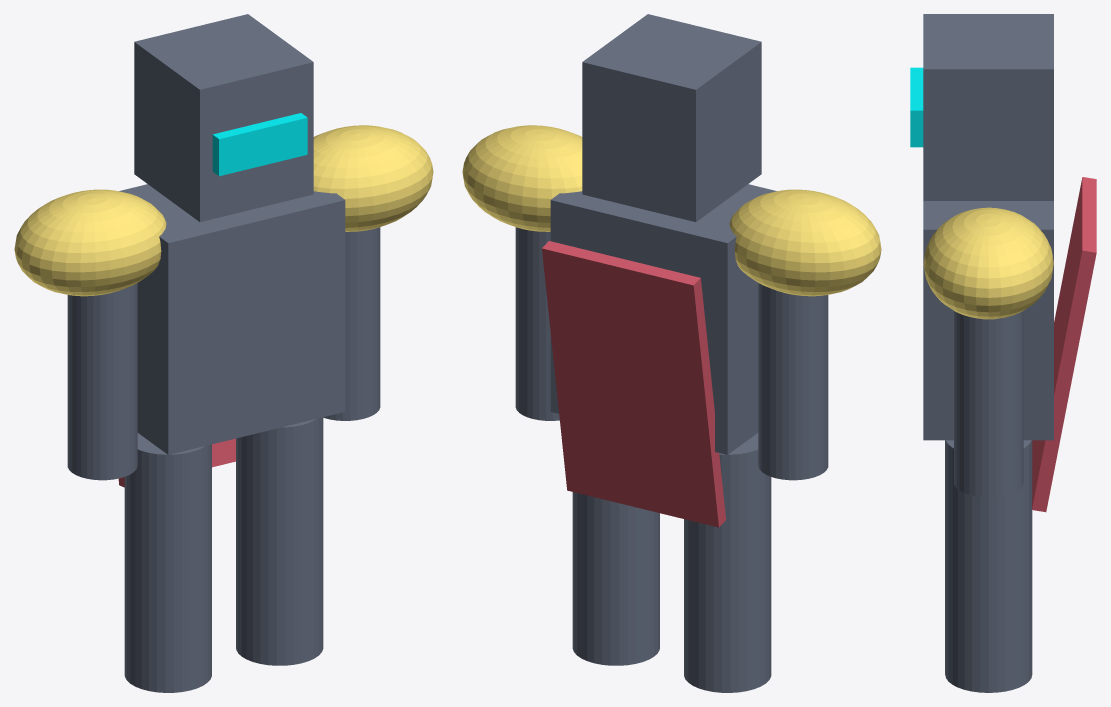
File: player.glb
The picture shows the model from 3 angles, left to right: view 1: azimuth 30°, elevation 25°; view 2: azimuth 150°, elevation 25°; view 3: azimuth 270°, elevation 25°; orthographic projection.
Visible parts, largest first — view 1: Player_Chest, Cube, Cylinder.002, Cylinder.003, Cylinder, Sphere, Sphere.001, Cylinder.001, Cube.001; view 2: Cube.002, Cube, Player_Chest, Cylinder.002, Cylinder.003, Cylinder, Sphere, Sphere.001, Cylinder.001; view 3: Cube, Cylinder.003, Cylinder.001, Player_Chest, Sphere.001, Cube.002, Cube.001.
Part boxes in pixels (x1,y1,x2,y2): Player_Chest: (119, 184, 345, 454); Cube: (134, 14, 313, 221); Cylinder.002: (124, 433, 211, 692); Cylinder.003: (236, 417, 323, 665); Cylinder: (67, 283, 137, 480); Sphere: (14, 189, 166, 296); Sphere.001: (313, 125, 433, 231); Cylinder.001: (323, 227, 380, 420); Cube.001: (212, 113, 307, 176); Cube.002: (542, 241, 725, 527); Cube: (582, 14, 761, 221); Player_Chest: (550, 184, 776, 454); Cylinder.002: (684, 433, 771, 692); Cylinder.003: (572, 492, 659, 665); Cylinder: (758, 283, 828, 480); Sphere: (729, 189, 881, 296); Sphere.001: (462, 125, 582, 231); Cylinder.001: (515, 227, 559, 420); Cube: (923, 14, 1053, 200); Cylinder.003: (945, 440, 1032, 692); Cylinder.001: (954, 311, 1023, 497); Player_Chest: (923, 201, 1053, 440); Sphere.001: (923, 207, 1053, 319); Cube.002: (1032, 177, 1096, 512); Cube.001: (910, 67, 923, 147).
Bounding box in the file's own units: 1.6 × 2.3 × 0.6414.
